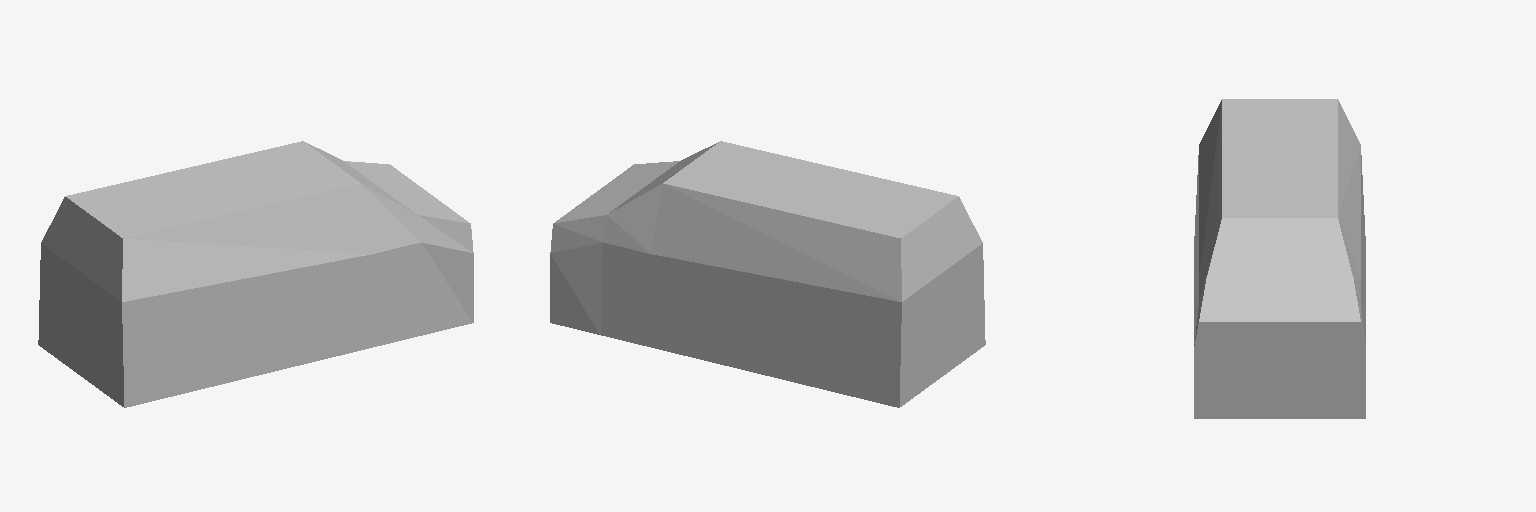
Rendered from CoonversionVan_Collider.obj.
3 renders of one model, left to right at view 1: azimuth 30°, elevation 25°; view 2: azimuth 150°, elevation 25°; view 3: azimuth 270°, elevation 25°, orthographic.
Visible parts, largest first — view 1: VanCollider_Cube; view 2: VanCollider_Cube; view 3: VanCollider_Cube.
Part boxes in pixels (x1,y1,x2,y2): VanCollider_Cube: (38, 141, 473, 407); VanCollider_Cube: (550, 141, 985, 407); VanCollider_Cube: (1194, 99, 1365, 418).
Bounding box in the file's own units: 4.68 × 2 × 2.